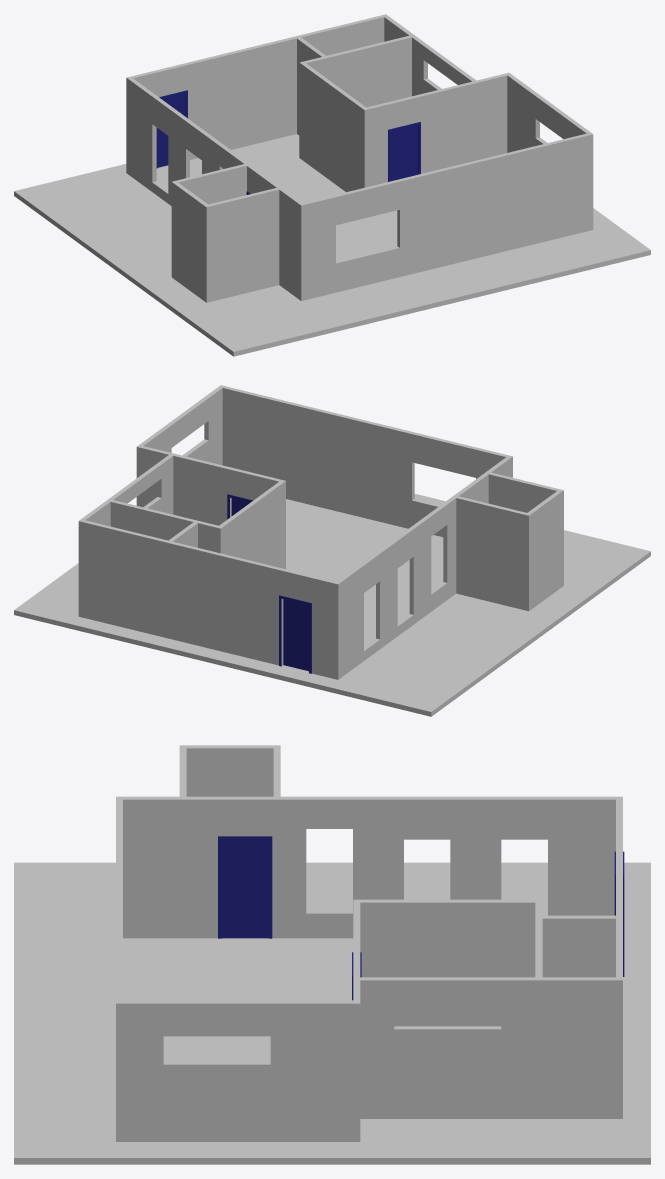
File: teste2.gltf
3 views of the same model, one above another, from view 1: azimuth 30°, elevation 25°; view 2: azimuth 150°, elevation 25°; view 3: azimuth 270°, elevation 25° (orthographic). The views are drawn at different scales.
Parts seen in each view (by area): view 1: Piso_Genérico_150_mm_334933, Parede_básica_Genérico_-_140_mm_Alvenaria_330306, Parede_básica_Genérico_-_140_mm_Alvenaria_331529, Parede_básica_Genérico_-_140_mm_Alvenaria_330667, Parede_básica_Genérico_-_140_mm_Alvenaria_330118, Parede_básica_Genérico_-_140_mm_Alvenaria_331917, Parede_básica_Genérico_-_140_mm_Alvenaria_330908, Parede_básica_Genérico_-_140_mm_Alvenaria_333211, Parede_básica_Genérico_-_140_mm_Alvenaria_332014, Parede_básica_Genérico_-_140_mm_Alvenaria_330470, Parede_básica_Genérico_-_140_mm_Alvenaria_331212, Parede_básica_Genérico_-_140_mm_Alvenaria_332083 (+3 smaller); view 2: Piso_Genérico_150_mm_334933, Parede_básica_Genérico_-_140_mm_Alvenaria_331529, Parede_básica_Genérico_-_140_mm_Alvenaria_330306, Parede_básica_Genérico_-_140_mm_Alvenaria_330118, Parede_básica_Genérico_-_140_mm_Alvenaria_332083, Parede_básica_Genérico_-_140_mm_Alvenaria_330667, Parede_básica_Genérico_-_140_mm_Alvenaria_330908, Parede_básica_Genérico_-_140_mm_Alvenaria_332014, Parede_básica_Genérico_-_140_mm_Alvenaria_330470, Parede_básica_Genérico_-_140_mm_Alvenaria_331212, Parede_básica_Genérico_-_140_mm_Alvenaria_333211, M_Folha_única_0915_x_2134mm_335337 (+1 smaller); view 3: Piso_Genérico_150_mm_334933, Parede_básica_Genérico_-_140_mm_Alvenaria_330118, Parede_básica_Genérico_-_140_mm_Alvenaria_331212, Parede_básica_Genérico_-_140_mm_Alvenaria_330470, Parede_básica_Genérico_-_140_mm_Alvenaria_330908, M_Folha_única_0915_x_2134mm_335208, Parede_básica_Genérico_-_140_mm_Alvenaria_333345, Parede_básica_Genérico_-_140_mm_Alvenaria_332014, Parede_básica_Genérico_-_140_mm_Alvenaria_330306, Parede_básica_Genérico_-_140_mm_Alvenaria_331529, Parede_básica_Genérico_-_140_mm_Alvenaria_330667, Parede_básica_Genérico_-_140_mm_Alvenaria_333211.
Part boxes in pixels (x1,y1,x2,y2): Piso_Genérico_150_mm_334933: (14, 134, 650, 356); Parede_básica_Genérico_-_140_mm_Alvenaria_330306: (303, 132, 593, 299); Parede_básica_Genérico_-_140_mm_Alvenaria_331529: (131, 15, 384, 159); Parede_básica_Genérico_-_140_mm_Alvenaria_330667: (362, 73, 507, 188); Parede_básica_Genérico_-_140_mm_Alvenaria_330118: (126, 76, 305, 300); Parede_básica_Genérico_-_140_mm_Alvenaria_331917: (204, 188, 279, 302); Parede_básica_Genérico_-_140_mm_Alvenaria_330908: (299, 61, 365, 192); Parede_básica_Genérico_-_140_mm_Alvenaria_333211: (304, 35, 411, 107); Parede_básica_Genérico_-_140_mm_Alvenaria_332014: (171, 180, 207, 300); Parede_básica_Genérico_-_140_mm_Alvenaria_330470: (505, 72, 590, 152); Parede_básica_Genérico_-_140_mm_Alvenaria_331212: (382, 14, 476, 96); Parede_básica_Genérico_-_140_mm_Alvenaria_332083: (176, 164, 246, 204); Piso_Genérico_150_mm_334933: (14, 494, 650, 716); Parede_básica_Genérico_-_140_mm_Alvenaria_331529: (82, 520, 335, 678); Parede_básica_Genérico_-_140_mm_Alvenaria_330306: (219, 385, 508, 536); Parede_básica_Genérico_-_140_mm_Alvenaria_330118: (334, 455, 512, 679); Parede_básica_Genérico_-_140_mm_Alvenaria_332083: (456, 496, 526, 610); Parede_básica_Genérico_-_140_mm_Alvenaria_330667: (141, 446, 285, 569); Parede_básica_Genérico_-_140_mm_Alvenaria_330908: (216, 481, 283, 568); Parede_básica_Genérico_-_140_mm_Alvenaria_332014: (524, 491, 561, 611); Parede_básica_Genérico_-_140_mm_Alvenaria_330470: (136, 387, 222, 506); Parede_básica_Genérico_-_140_mm_Alvenaria_331212: (78, 455, 173, 617); Parede_básica_Genérico_-_140_mm_Alvenaria_333211: (110, 500, 218, 551); M_Folha_única_0915_x_2134mm_335337: (279, 595, 311, 673); Piso_Genérico_150_mm_334933: (14, 862, 650, 1164); Parede_básica_Genérico_-_140_mm_Alvenaria_330118: (116, 796, 622, 938); Parede_básica_Genérico_-_140_mm_Alvenaria_331212: (360, 977, 622, 1118); Parede_básica_Genérico_-_140_mm_Alvenaria_330470: (123, 1000, 360, 1141); Parede_básica_Genérico_-_140_mm_Alvenaria_330908: (360, 899, 542, 1026); M_Folha_única_0915_x_2134mm_335208: (218, 836, 272, 938); Parede_básica_Genérico_-_140_mm_Alvenaria_333345: (542, 915, 615, 977); Parede_básica_Genérico_-_140_mm_Alvenaria_332014: (186, 745, 280, 796); Parede_básica_Genérico_-_140_mm_Alvenaria_330306: (116, 799, 122, 1141); Parede_básica_Genérico_-_140_mm_Alvenaria_331529: (616, 799, 622, 977); Parede_básica_Genérico_-_140_mm_Alvenaria_330667: (353, 899, 360, 1000); Parede_básica_Genérico_-_140_mm_Alvenaria_333211: (535, 902, 542, 977).
Size of what is drawn, in the model's own units: 44.99 by 10.33 by 41.02.
